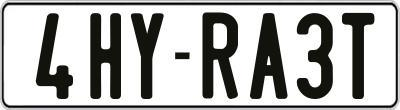3: (295, 12, 332, 102)
4: (35, 11, 76, 97)
A: (249, 13, 287, 105)
H: (90, 10, 123, 100)
R: (201, 10, 239, 98)
T: (340, 11, 375, 102)
Y: (130, 13, 164, 105)
